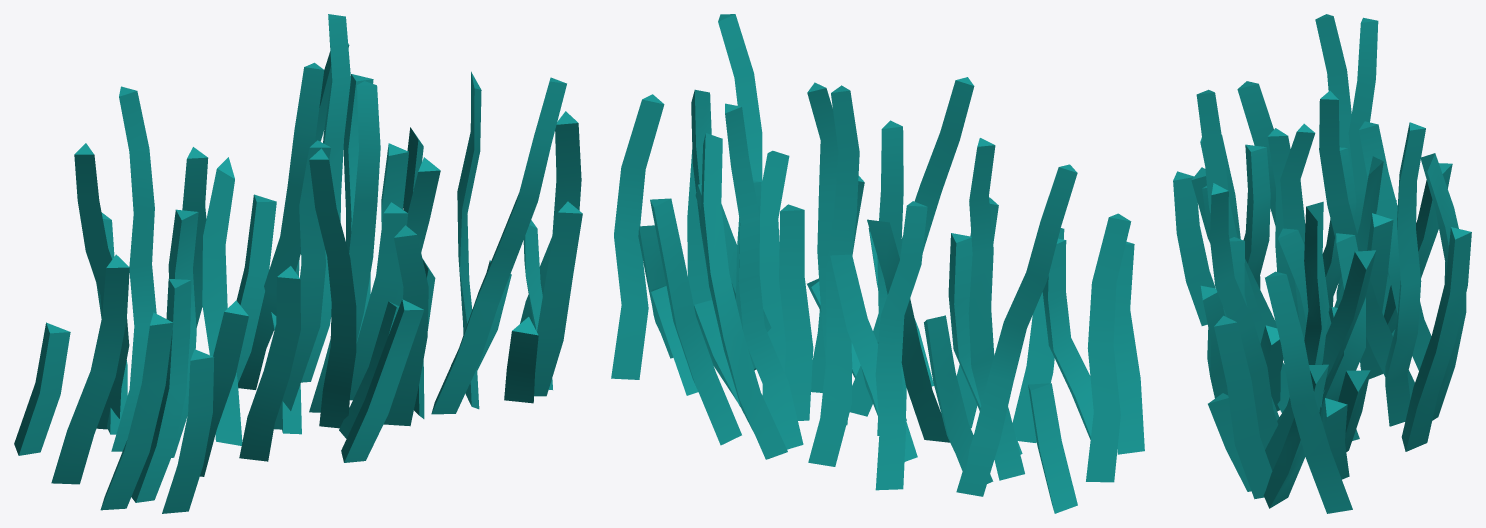
The model's file is coral_anemone_B_light.fbx.
3 renders of one model, left to right at view 1: azimuth 30°, elevation 25°; view 2: azimuth 150°, elevation 25°; view 3: azimuth 270°, elevation 25°, orthographic. The views are drawn at different scales.
Parts seen in each view (by area): view 1: coral_anemone_B_light; view 2: coral_anemone_B_light; view 3: coral_anemone_B_light.
Part boxes in pixels (<box>): coral_anemone_B_light: <box>14,14,582,513</box>; coral_anemone_B_light: <box>611,14,1144,513</box>; coral_anemone_B_light: <box>1173,14,1471,513</box>.
Size of the model in its own units: 110 by 72.44 by 60.68.
